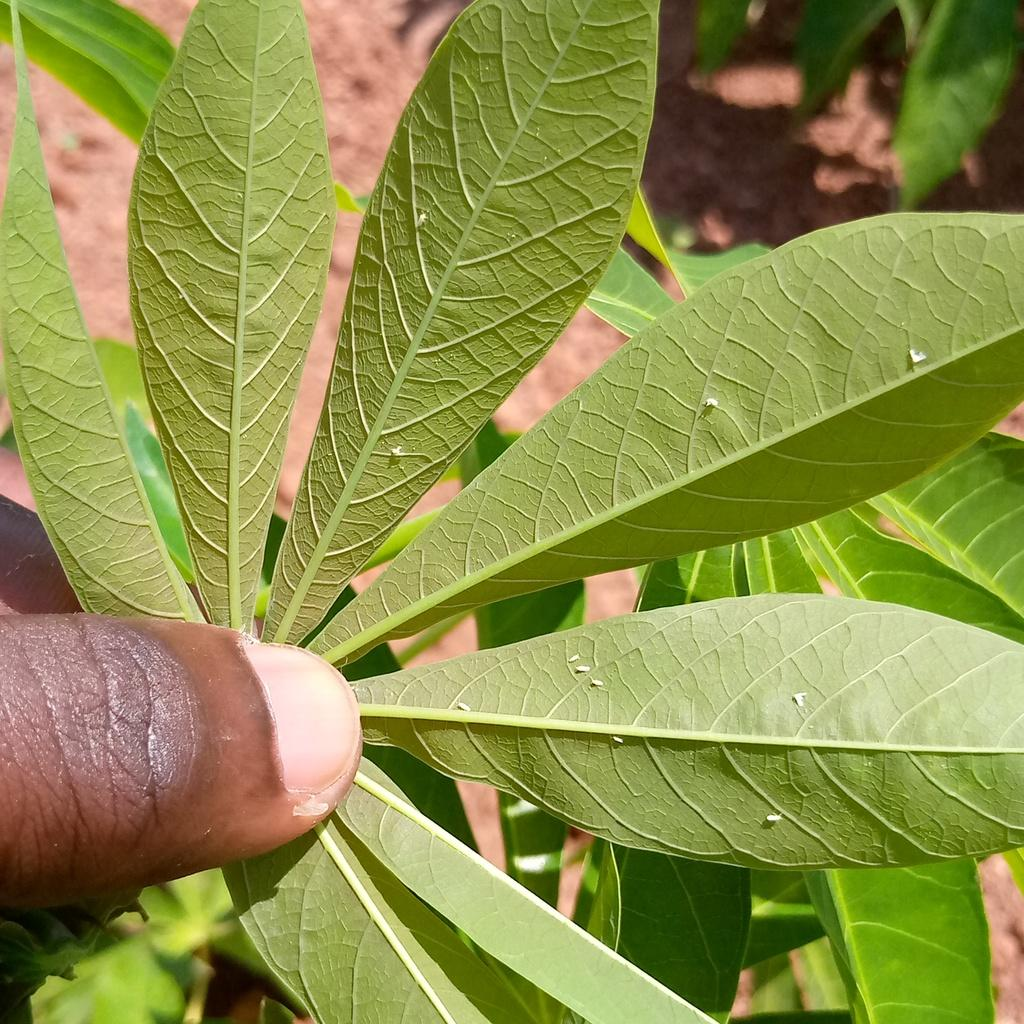adult: (909, 348, 927, 364), (792, 691, 807, 706), (703, 397, 719, 409), (416, 212, 428, 227), (575, 664, 590, 673), (767, 813, 782, 821), (456, 703, 471, 711), (568, 654, 580, 663), (590, 679, 604, 686), (613, 736, 623, 744), (391, 448, 400, 454)
